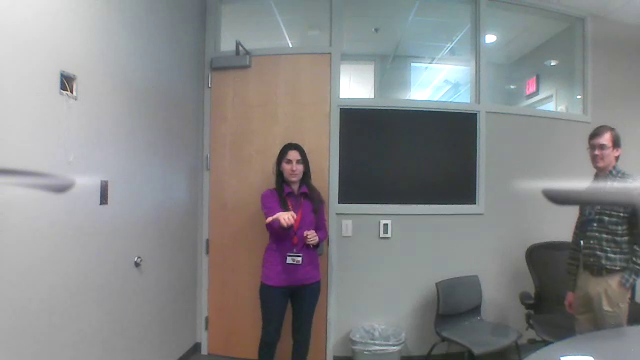land: (263, 207, 298, 228)
